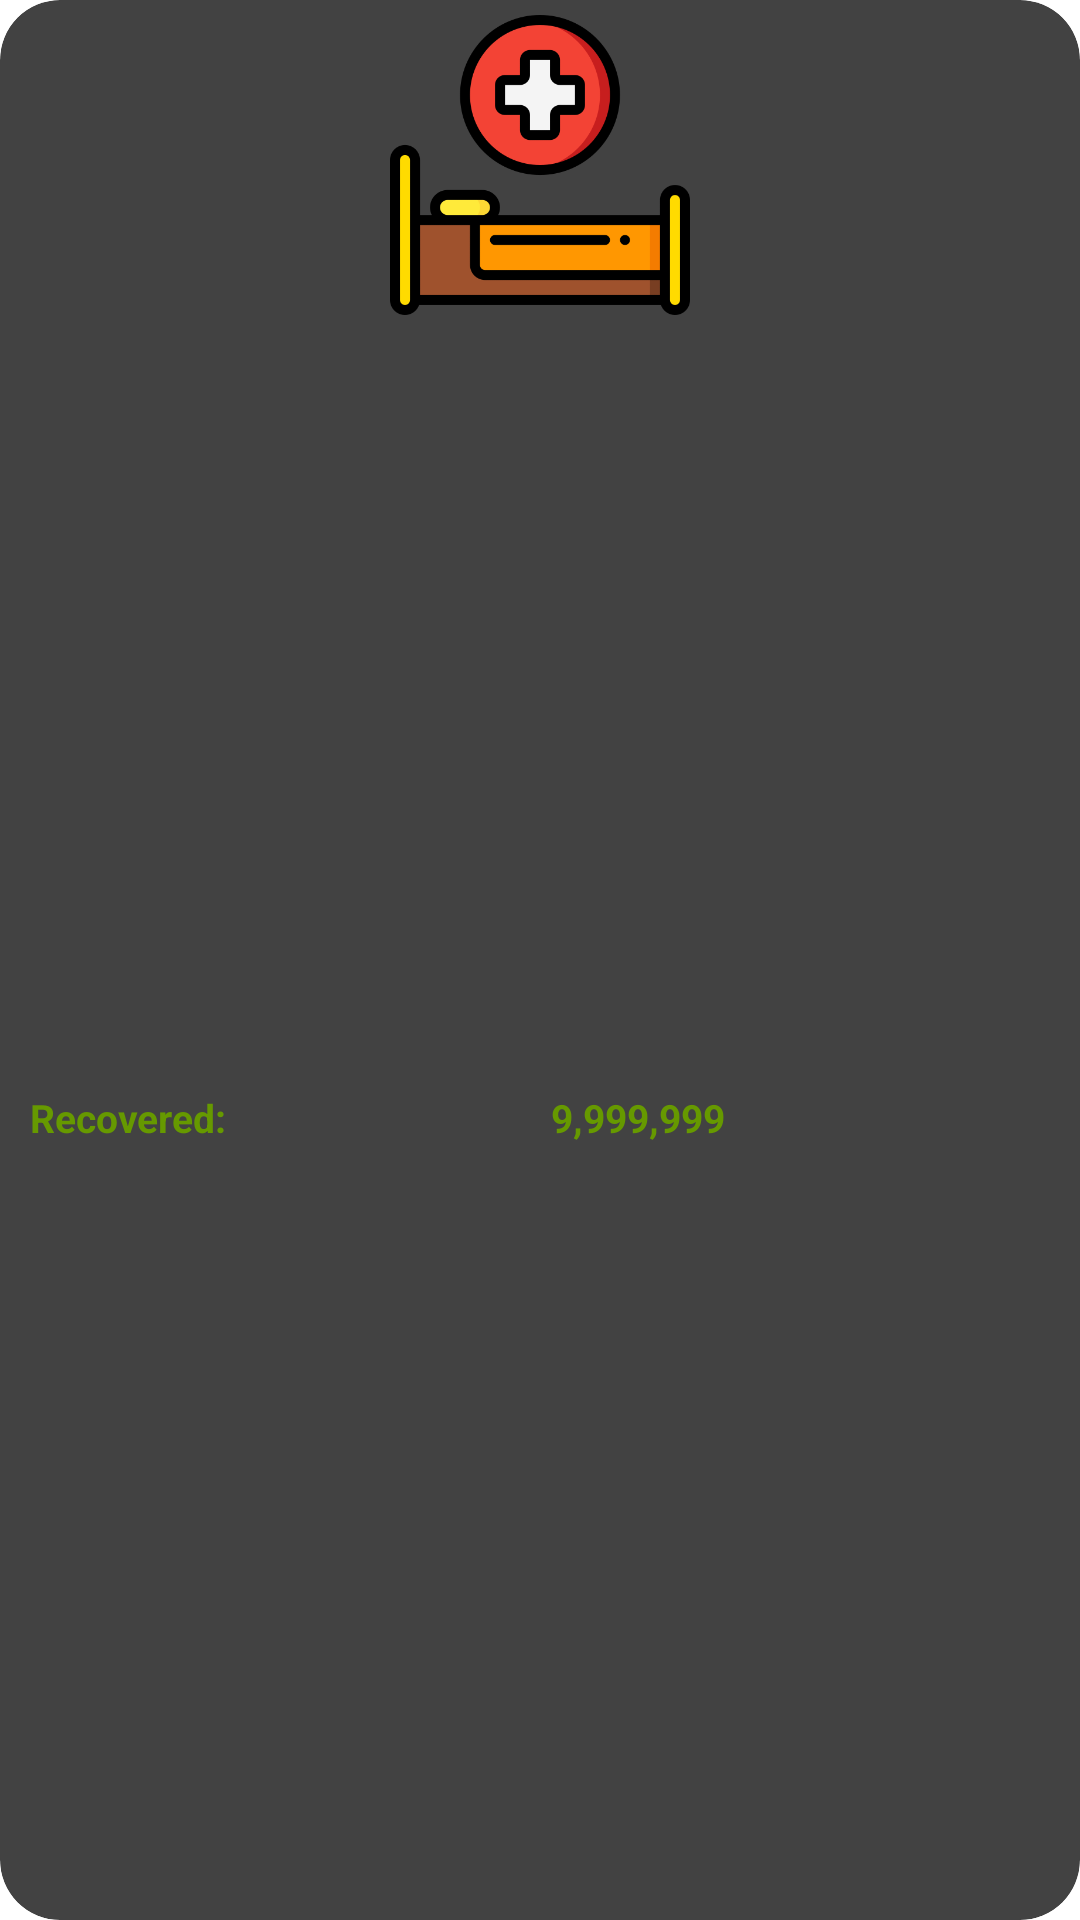

Named icons in this screenshot (1080x1920) and their bounding boxes, rect(x1, y1, x2, y2):
recovered case: rect(390, 15, 690, 315)
